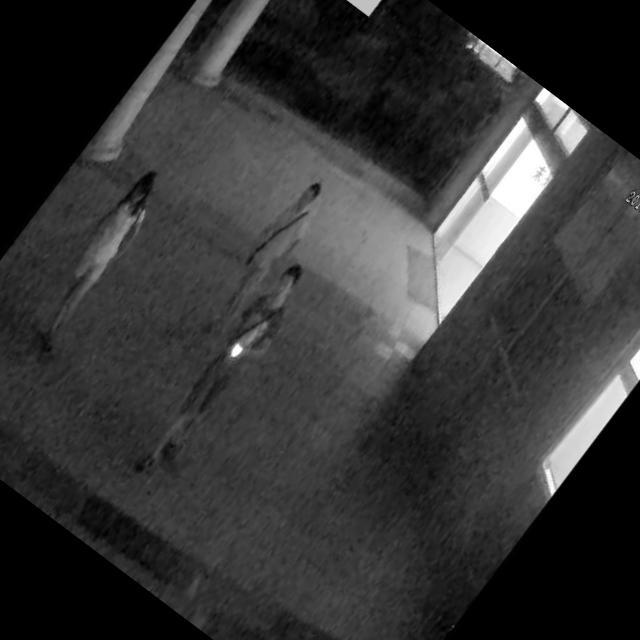person: (126, 253, 327, 496), (12, 154, 182, 358), (195, 165, 338, 336)
